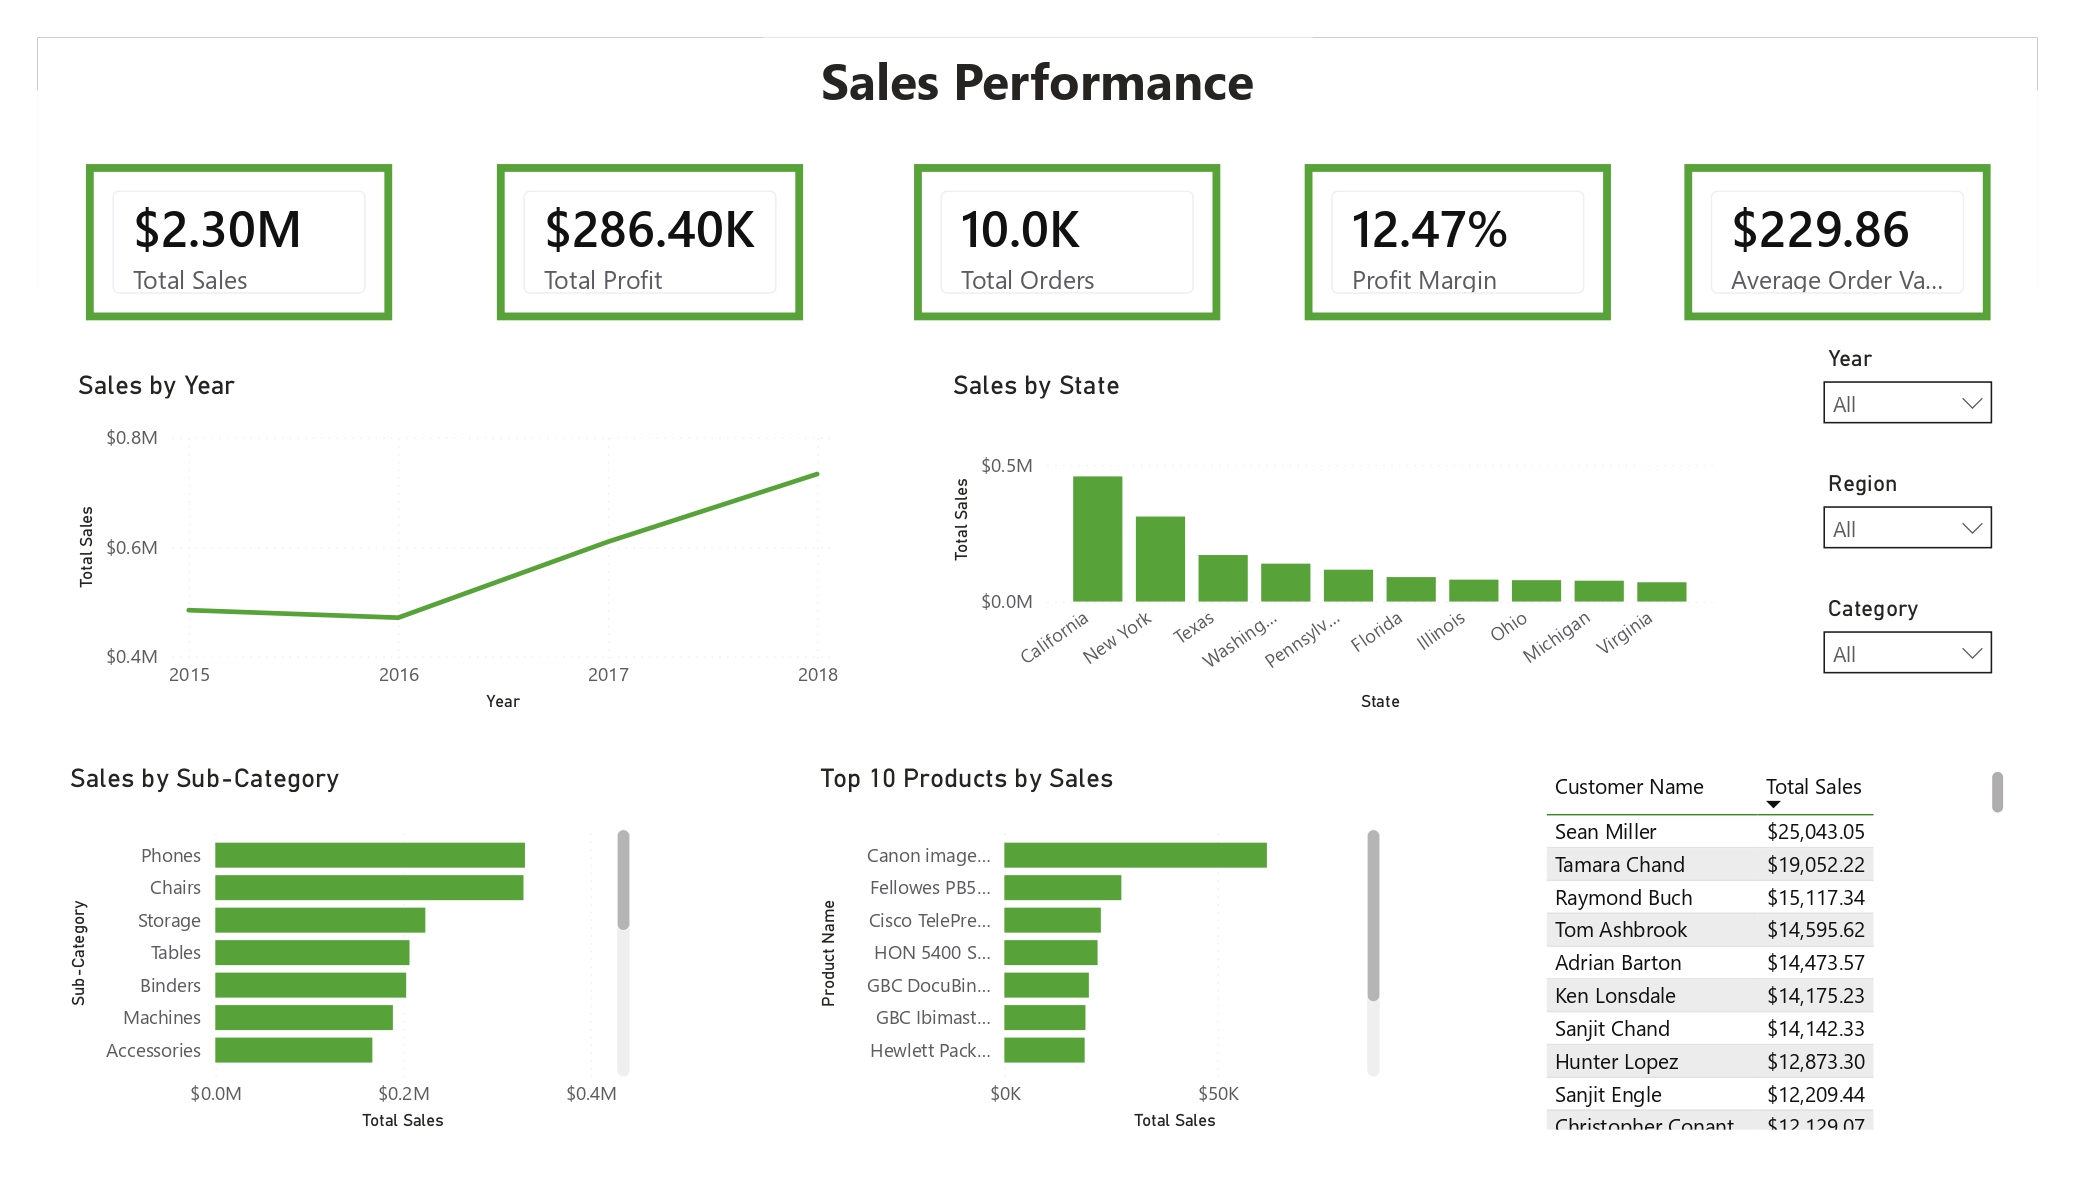

The dashboard page shown, as its layout file describes it:
{"tool":"powerbi","page":{"name":"Sales Performance","canvas":[1280,720],"ordinal":2},"visuals":[{"type":"cardVisual","fields":{"Data":["Date.Total Sales"]},"box":[30.8,81,196,100],"z":0},{"type":"cardVisual","fields":{"Data":["orders.Total Profit"]},"box":[293.6,81,196,100],"z":1000},{"type":"cardVisual","fields":{"Data":["orders.Total Orders"]},"box":[560.9,81,196,100],"z":2000},{"type":"cardVisual","fields":{"Data":["orders.Profit Margin"]},"box":[811.2,81,196,100],"z":3000},{"type":"cardVisual","fields":{"Data":["orders.Average Order Value"]},"box":[1054,81,196,100],"z":4000},{"type":"lineChart","title":"Sales by Year","fields":{"Category":["Date.Date Hierarchy.Year","Date.Date Hierarchy.Quarter","Date.Date Hierarchy.Month"],"Y":["orders.Total Sales"]},"box":[20.5,212.2,496,224],"z":5000},{"type":"clusteredBarChart","title":"Sales by Sub-Category","fields":{"Category":["orders.Sub-Category"],"Y":["orders.Total Sales"]},"box":[16,464,368,240],"z":6000},{"type":"clusteredColumnChart","title":"Sales by State","fields":{"Category":["orders.State"],"Y":["orders.Total Sales"]},"box":[580.5,212.2,496,224],"z":7000},{"type":"clusteredBarChart","title":"Top 10 Products by Sales","fields":{"Category":["orders.Product Name"],"Y":["orders.Total Sales"]},"box":[496,464,368,240],"z":8000},{"type":"tableEx","fields":{"Values":["orders.Customer Name","orders.Total Sales"]},"box":[960,464,304,240],"z":9000},{"type":"slicer","fields":{"Values":["Date.Date Hierarchy.Year"]},"box":[1133.3,191.7,128,64],"z":10000},{"type":"slicer","fields":{"Values":["orders.Category"]},"box":[1133.3,351.7,128,64],"z":11000},{"type":"slicer","fields":{"Values":["orders.Region"]},"box":[1133.3,271.7,128,64],"z":12000},{"type":"textbox","box":[464,0,352,64],"z":13000}]}

Visuals, with their boxes on the page's 1280x720 design canvas (x1, y1, x2, y2). These are canvas units, not pixel positions in the 2075x1200 screenshot, which may show the page scaled, cropped or inside an application window:
cardVisual - Date.Total Sales: detection(31, 81, 227, 181)
cardVisual - orders.Total Profit: detection(294, 81, 490, 181)
cardVisual - orders.Total Orders: detection(561, 81, 757, 181)
cardVisual - orders.Profit Margin: detection(811, 81, 1007, 181)
cardVisual - orders.Average Order Value: detection(1054, 81, 1250, 181)
"Sales by Year" lineChart: detection(20, 212, 516, 436)
"Sales by Sub-Category" clusteredBarChart: detection(16, 464, 384, 704)
"Sales by State" clusteredColumnChart: detection(580, 212, 1076, 436)
"Top 10 Products by Sales" clusteredBarChart: detection(496, 464, 864, 704)
tableEx - orders.Customer Name x orders.Total Sales: detection(960, 464, 1264, 704)
slicer - Date.Date Hierarchy.Year: detection(1133, 192, 1261, 256)
slicer - orders.Category: detection(1133, 352, 1261, 416)
slicer - orders.Region: detection(1133, 272, 1261, 336)
textbox: detection(464, 0, 816, 64)
